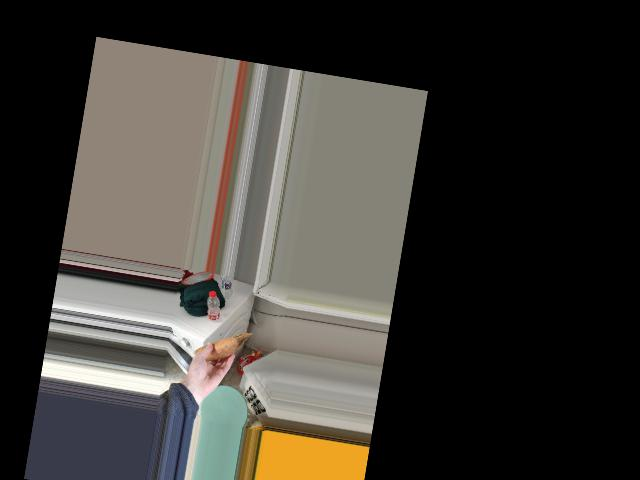sweet_potato: (198, 333, 235, 367)
